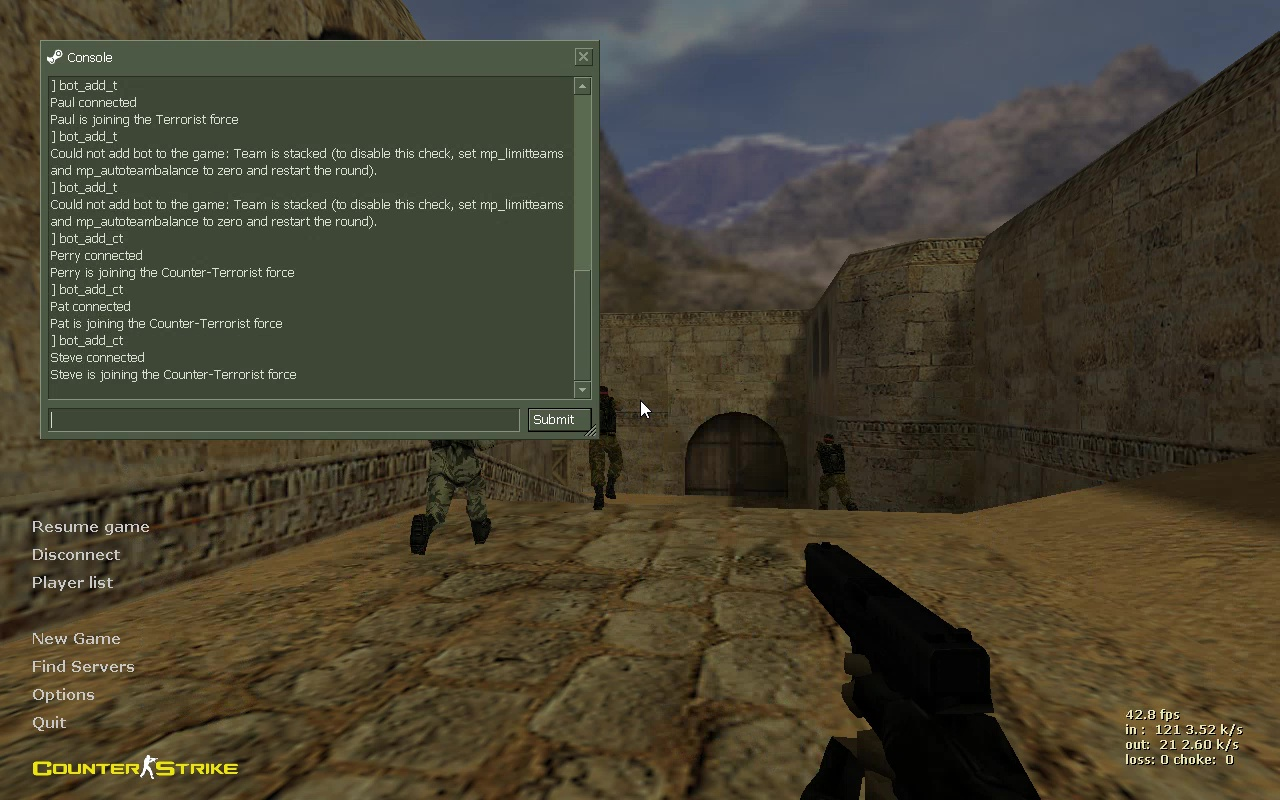terr1: (573, 390, 628, 507), (811, 435, 860, 516)
